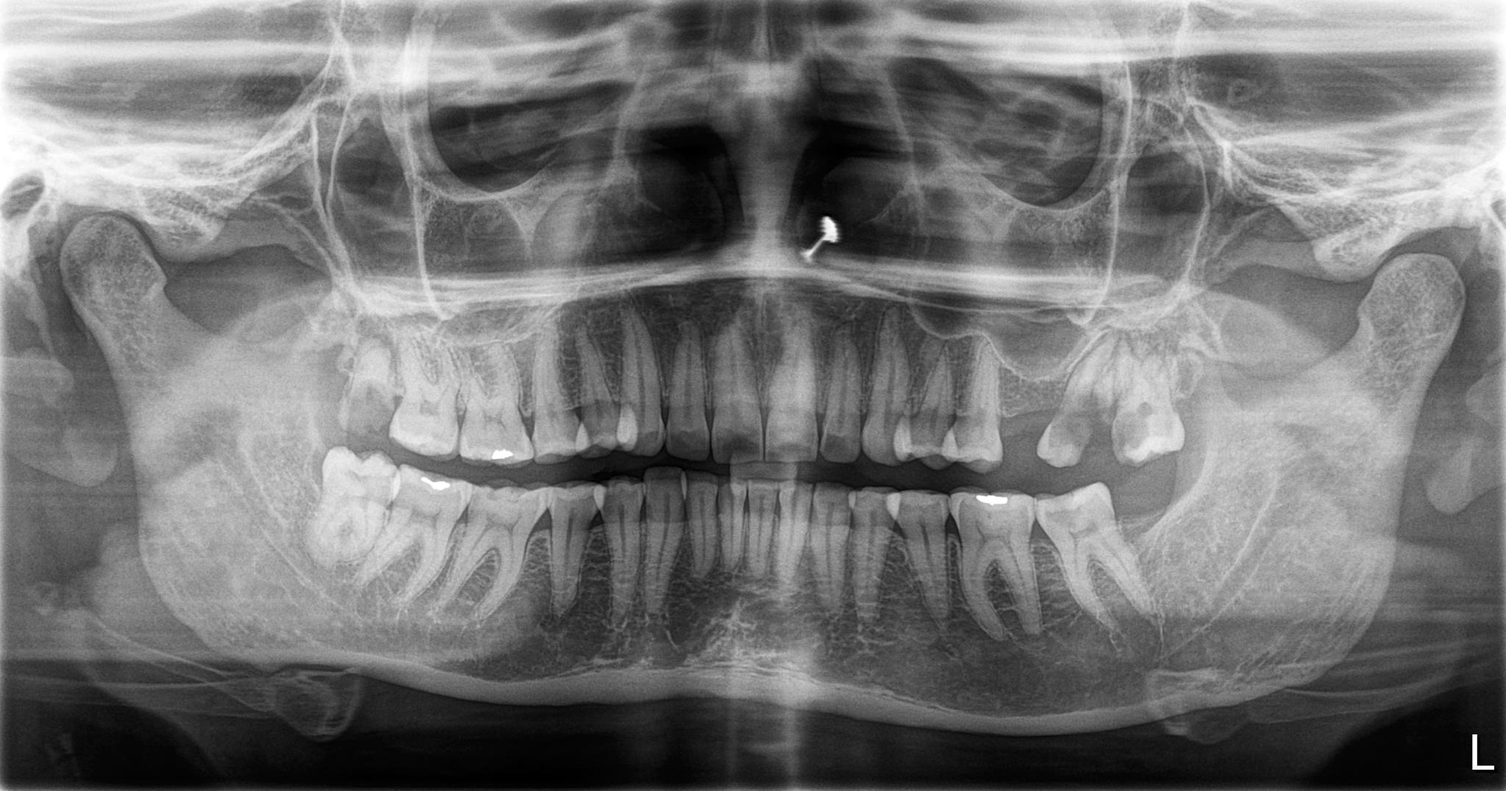Dental Caries: (336, 386, 392, 433), (1105, 404, 1155, 446)
Missing Tooth: (995, 362, 1043, 470), (1120, 469, 1195, 527)
